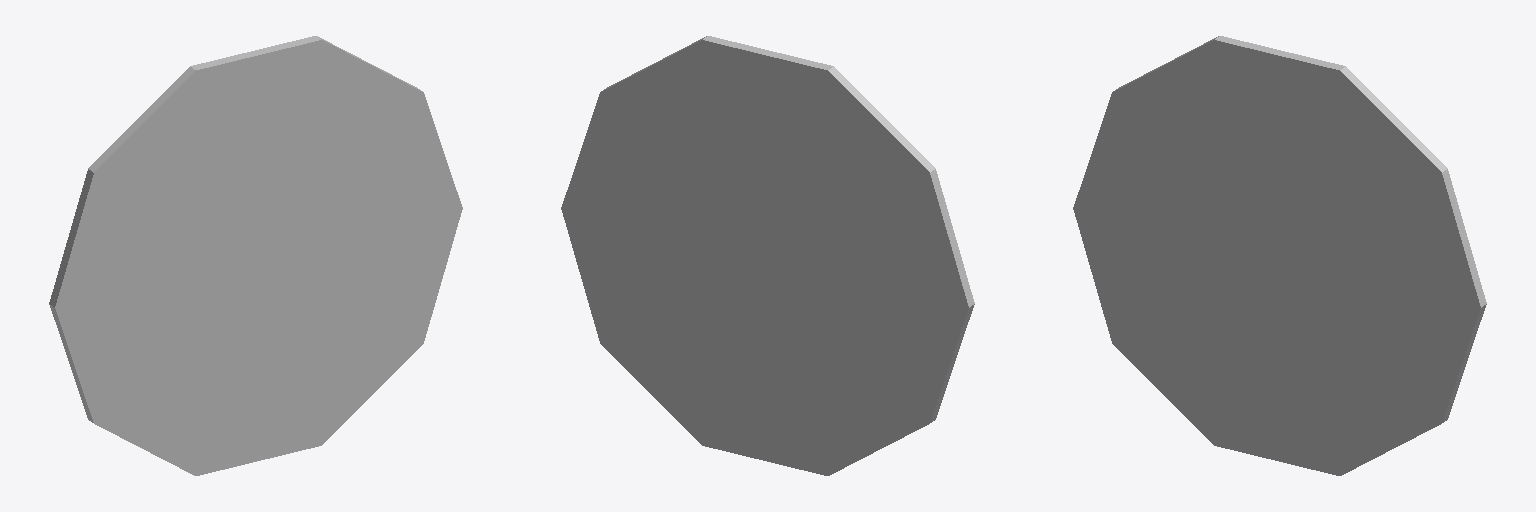
The model's file is TargerCollider.obj.
The picture shows the model from 3 angles: view 1: azimuth 30°, elevation 25°; view 2: azimuth 150°, elevation 25°; view 3: azimuth 330°, elevation 25°; orthographic projection.
Visible parts, largest first — view 1: TargetCollider_TargetCollider_Cylinder; view 2: TargetCollider_TargetCollider_Cylinder; view 3: TargetCollider_TargetCollider_Cylinder.
Part boxes in pixels (x1,y1,x2,y2): TargetCollider_TargetCollider_Cylinder: (49,36,462,475); TargetCollider_TargetCollider_Cylinder: (561,36,974,475); TargetCollider_TargetCollider_Cylinder: (1073,36,1486,475).
Size of the model in its own units: 0.9 by 0.8559 by 0.0225.